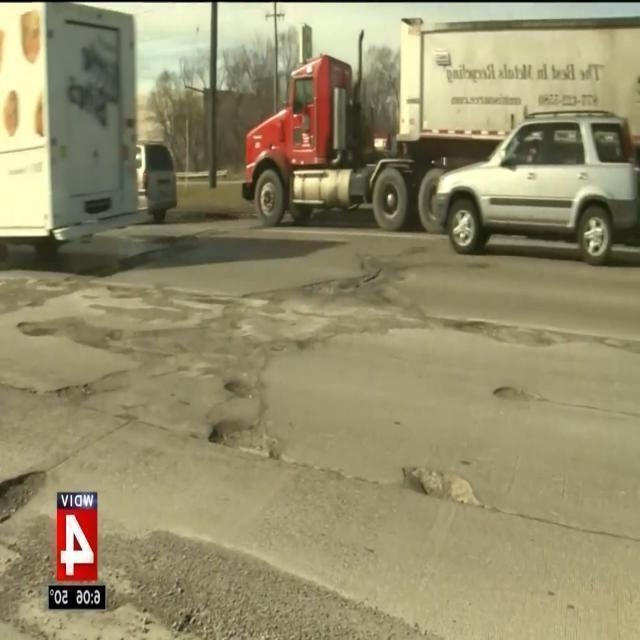Pothole: (212, 418, 277, 461), (1, 470, 42, 526), (406, 462, 468, 497), (226, 374, 255, 397)
